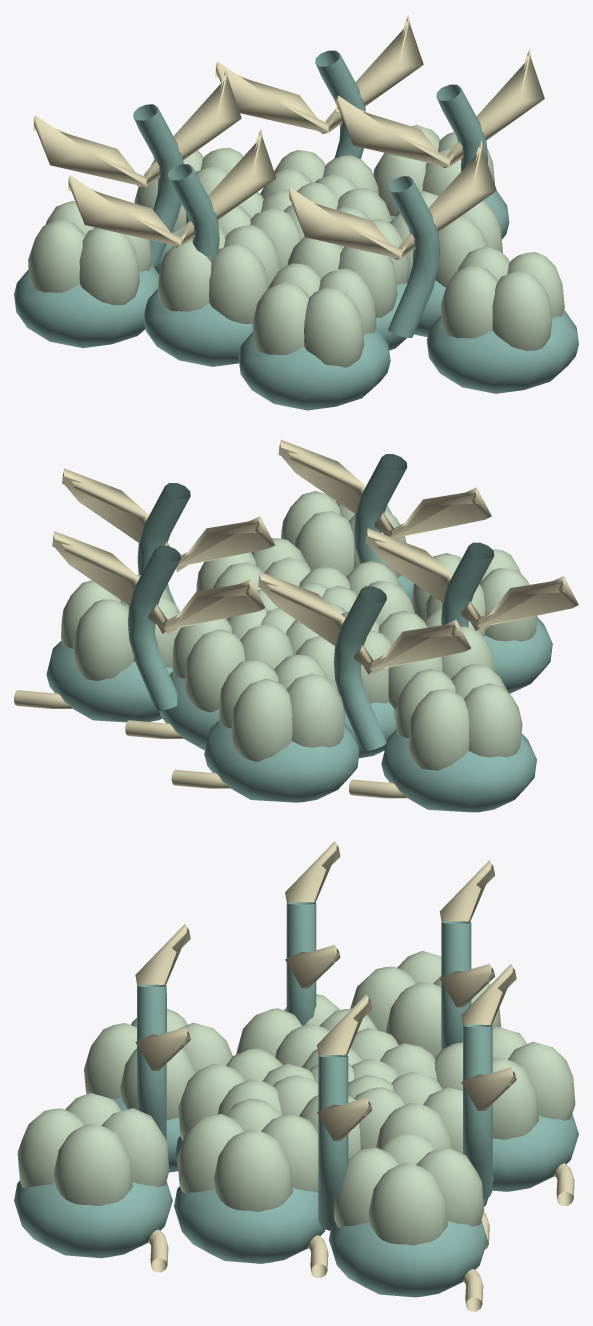
The model's file is bio_oxygen_reef_07_far.glb.
3 views of the same model, one above another, from view 1: azimuth 30°, elevation 25°; view 2: azimuth 150°, elevation 25°; view 3: azimuth 270°, elevation 25° (orthographic). The views are drawn at different scales.
Visible parts, largest first — view 1: Lobed gas sac.040, Lobed gas sac.028, Lobed gas sac.036, Lobed gas sac.016, Photosynthetic cushion.007, Photosynthetic cushion.010, Photosynthetic cushion.009, Secondary fan lobe.002, Secondary fan lobe, Secondary fan lobe.008, Secondary fan lobe.004, Secondary fan lobe.006 (+16 smaller); view 2: Lobed gas sac.036, Lobed gas sac.024, Photosynthetic cushion.006, Photosynthetic cushion.009, Lobed gas sac.012, Lobed gas sac.032, Secondary fan lobe.008, Secondary fan lobe.002, Secondary fan lobe.006, Secondary fan lobe.004, Secondary fan lobe, Photosynthetic cushion.008 (+19 smaller); view 3: Lobed gas sac.040, Lobed gas sac.032, Lobed gas sac.020, Photosynthetic cushion.010, Photosynthetic cushion.008, Photosynthetic cushion.005, Lobed gas sac.024, Lobed gas sac.028, Lobed gas sac.036, Lobed gas sac.012, Lobed gas sac.008, Photosynthetic cushion.006 (+18 smaller).
Part boxes in pixels (x1,y1,x2,y2): Lobed gas sac.040: [440, 246, 564, 350]; Lobed gas sac.028: [252, 263, 376, 367]; Lobed gas sac.036: [28, 200, 151, 305]; Lobed gas sac.016: [157, 225, 280, 323]; Photosynthetic cushion.007: [238, 327, 390, 410]; Photosynthetic cushion.010: [426, 310, 578, 393]; Photosynthetic cushion.009: [14, 265, 158, 348]; Secondary fan lobe.002: [33, 68, 241, 187]; Secondary fan lobe: [336, 49, 544, 168]; Secondary fan lobe.008: [67, 128, 276, 247]; Secondary fan lobe.004: [288, 140, 496, 259]; Secondary fan lobe.006: [215, 14, 423, 133]; Lobed gas sac.036: [395, 664, 522, 770]; Lobed gas sac.024: [218, 654, 345, 761]; Photosynthetic cushion.006: [204, 720, 359, 802]; Photosynthetic cushion.009: [381, 730, 536, 812]; Lobed gas sac.012: [172, 608, 293, 712]; Lobed gas sac.032: [61, 575, 180, 680]; Secondary fan lobe.008: [365, 528, 578, 631]; Secondary fan lobe.002: [258, 571, 471, 675]; Secondary fan lobe.006: [52, 531, 265, 634]; Secondary fan lobe.004: [278, 439, 491, 539]; Secondary fan lobe: [62, 468, 274, 572]; Photosynthetic cushion.008: [46, 641, 172, 722]; Lobed gas sac.040: [17, 1092, 169, 1205]; Lobed gas sac.032: [334, 1132, 484, 1245]; Lobed gas sac.020: [177, 1098, 318, 1211]; Photosynthetic cushion.010: [14, 1180, 172, 1258]; Photosynthetic cushion.008: [329, 1220, 487, 1297]; Photosynthetic cushion.005: [174, 1186, 325, 1263]; Lobed gas sac.024: [435, 1026, 575, 1139]; Lobed gas sac.028: [84, 1008, 232, 1120]; Lobed gas sac.036: [350, 950, 501, 1058]; Lobed gas sac.012: [354, 1071, 462, 1153]; Lobed gas sac.008: [178, 1048, 314, 1140]; Photosynthetic cushion.006: [492, 1114, 578, 1191].
Size of the model in its own units: 1.86 by 0.7649 by 1.71.
